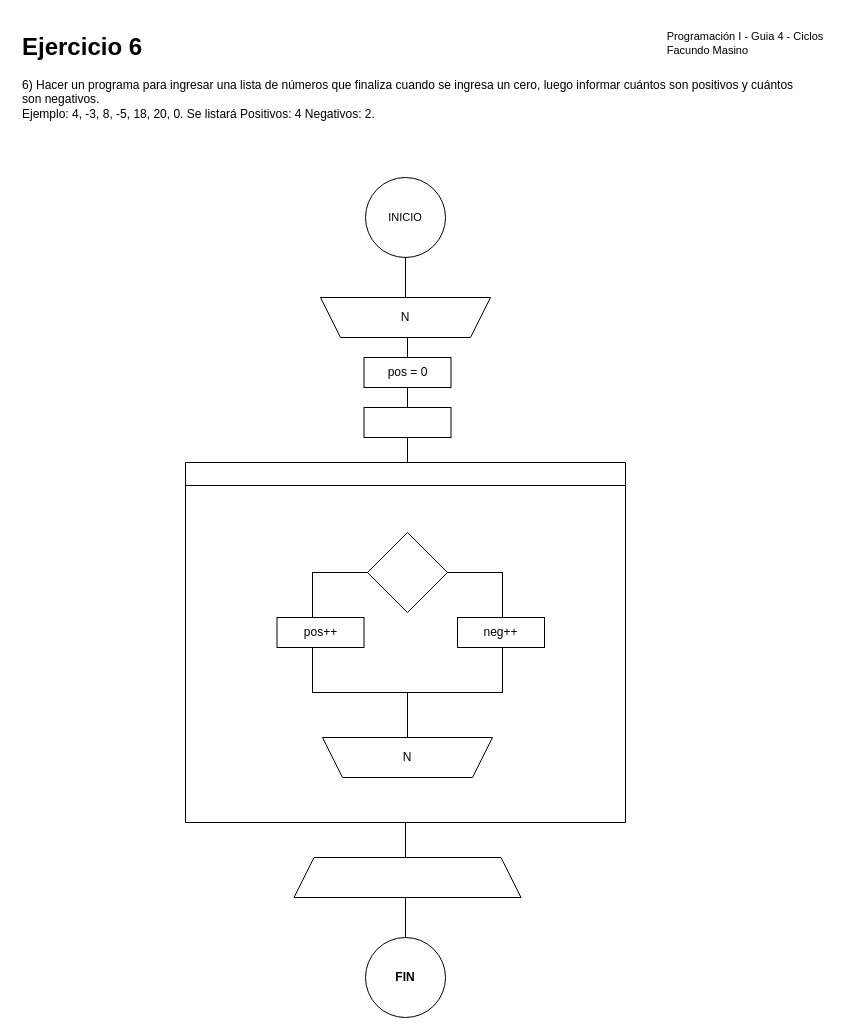
The diagram is 842 pixels wide and 1035 high, and some of its shapes have lost their labels. The box of each missing label's shape, as (x1, y1, x2, y2) in pixels:
"Positivos: ", pos, " Negativos: ", neg: (293, 856, 521, 898)
N != 0: (184, 462, 626, 822)
N > 0: (366, 532, 448, 612)
neg = 0: (363, 406, 451, 438)
